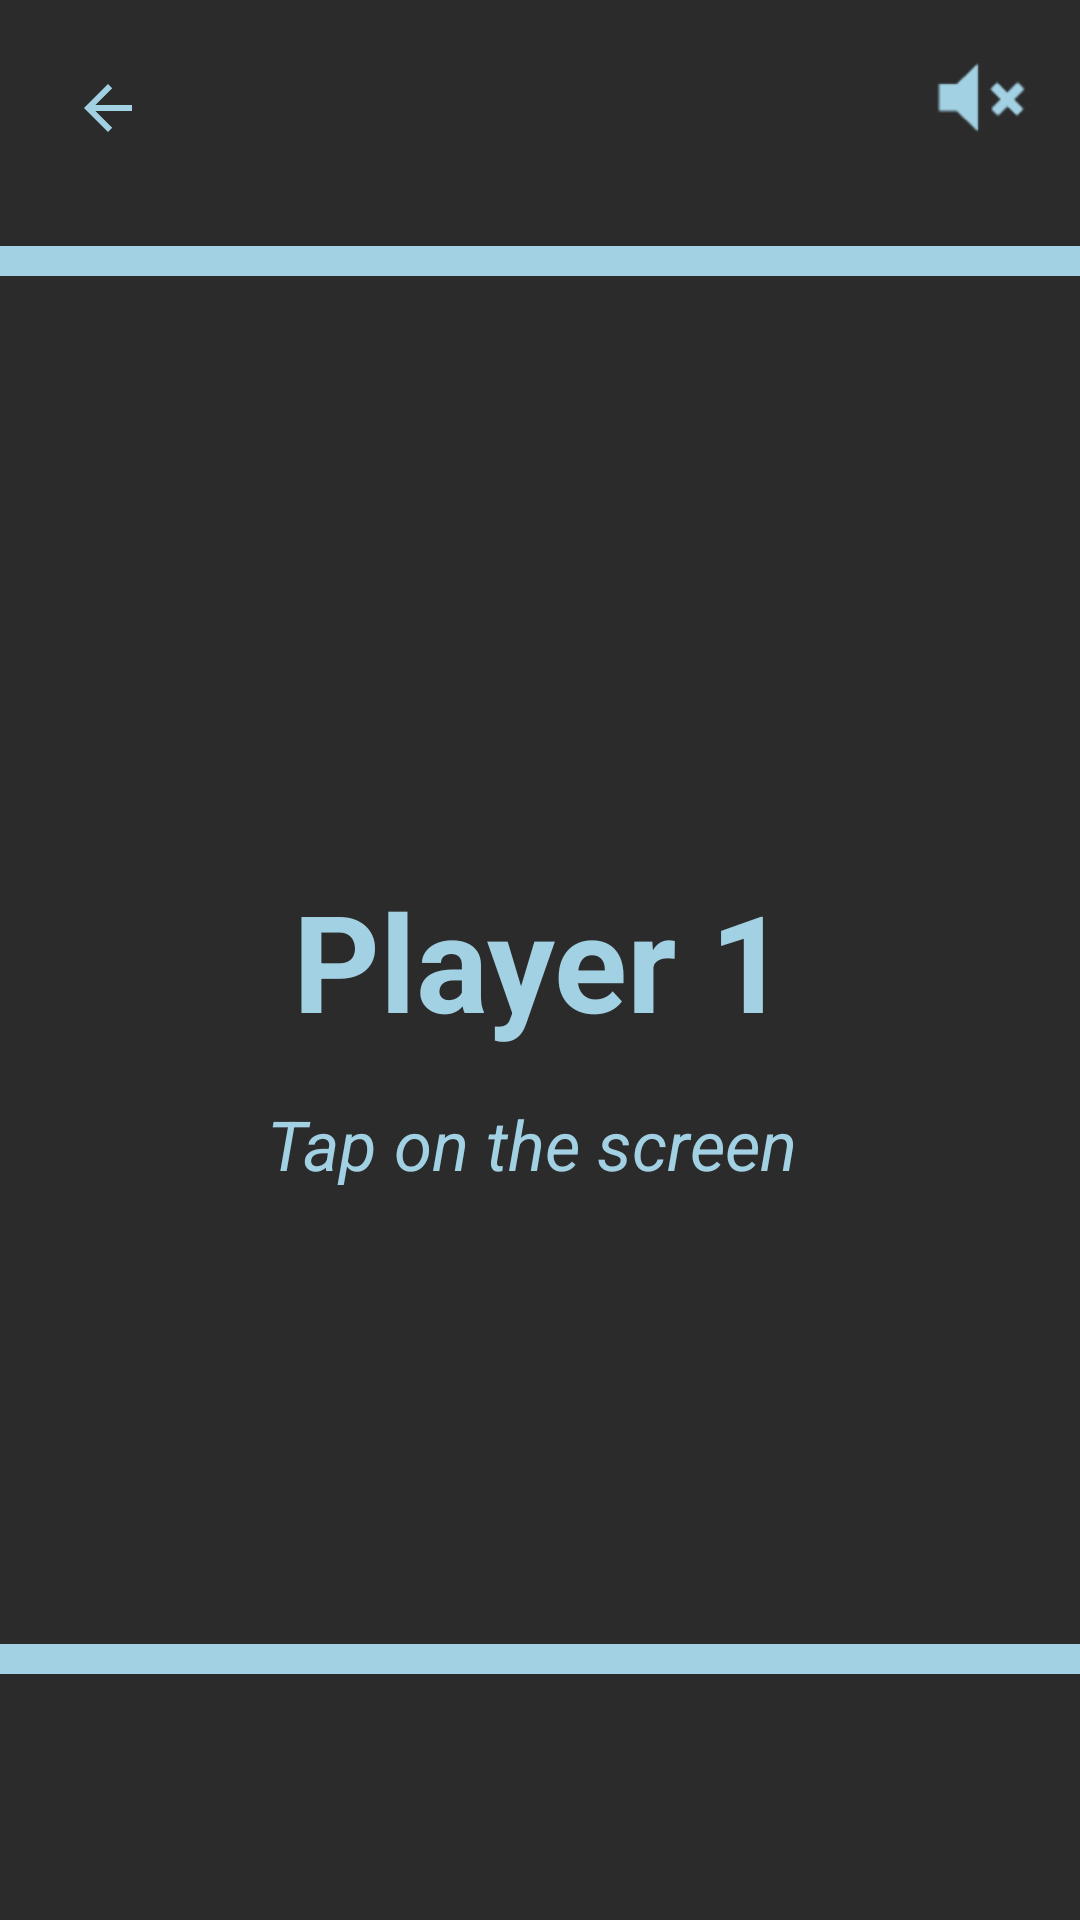

Icon click points for this 1080 x 1920 phone screenshot, format [x,y]:
lock silent mode: [981,97]
